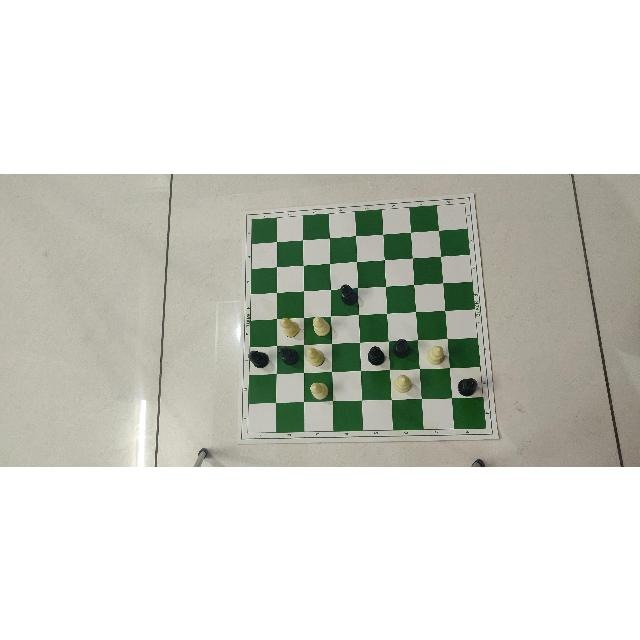black-bishop: (247, 347, 271, 368), (338, 281, 358, 305), (279, 342, 299, 365), (392, 338, 413, 358), (458, 377, 478, 397), (367, 345, 385, 365)
white-bishop: (278, 315, 300, 338), (311, 315, 331, 339), (305, 345, 325, 367), (310, 380, 330, 400), (394, 373, 414, 393), (426, 345, 445, 365)
